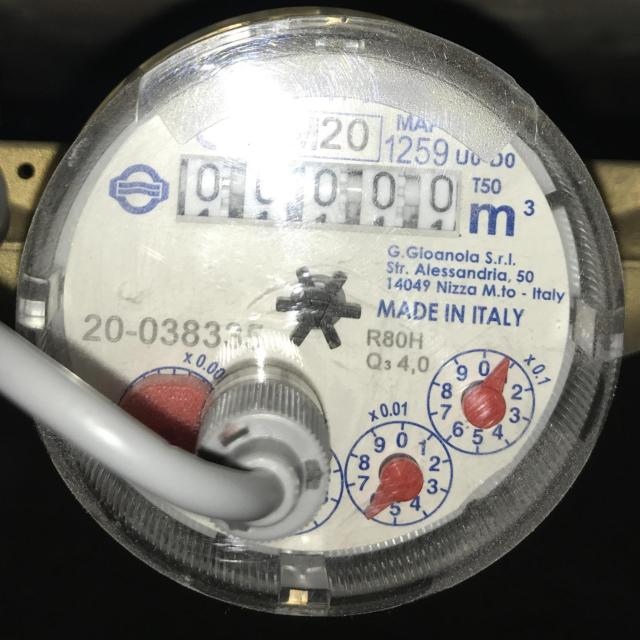gaz_meter: (24, 21, 624, 612)
indication: (174, 153, 463, 233)
